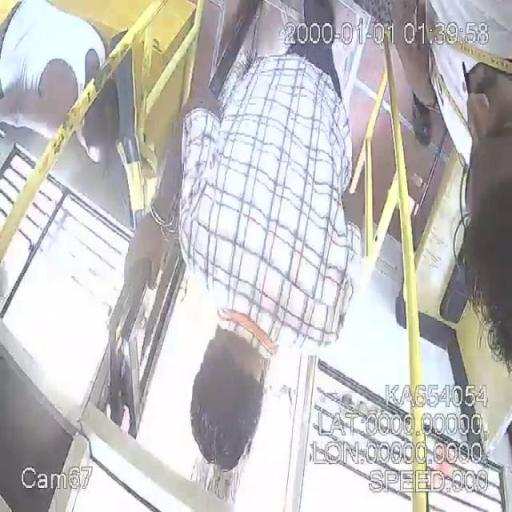persona: (176, 3, 360, 471), (389, 0, 511, 376), (1, 0, 123, 172)
